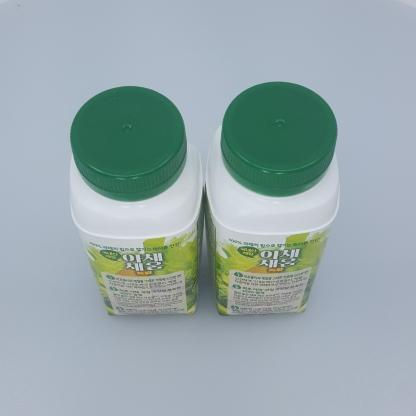---------190ML: (205, 81, 339, 315), (69, 86, 203, 316)
